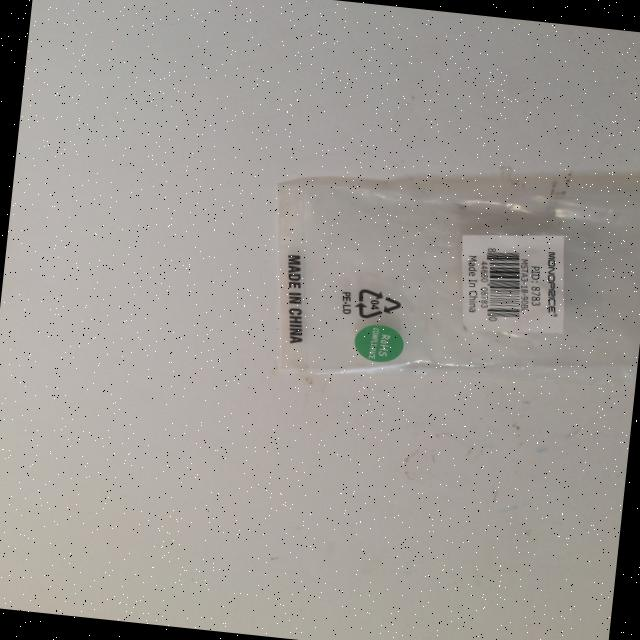plastic: (255, 140, 640, 409)
